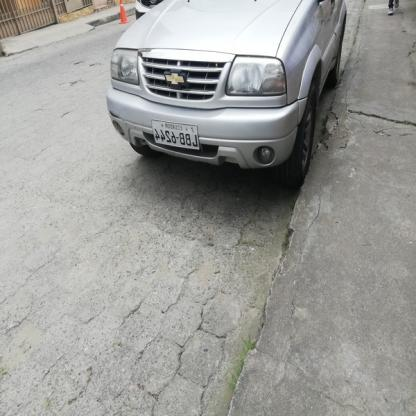Placa: (145, 120, 202, 156)
